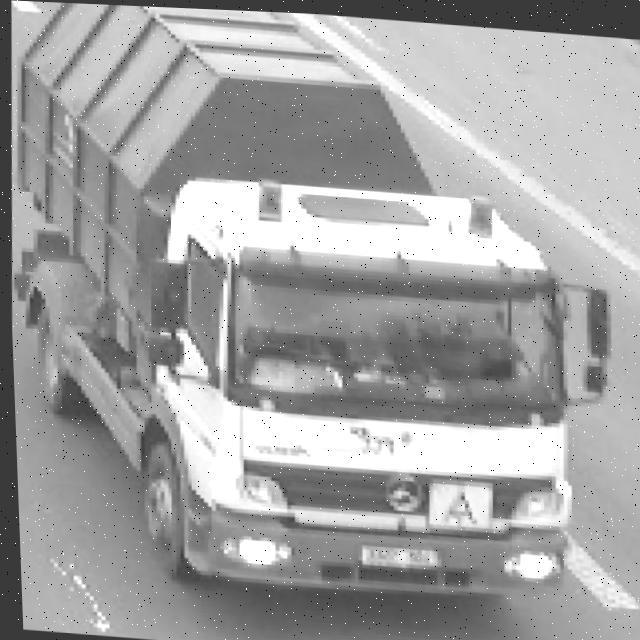truck: (0, 0, 619, 609)
